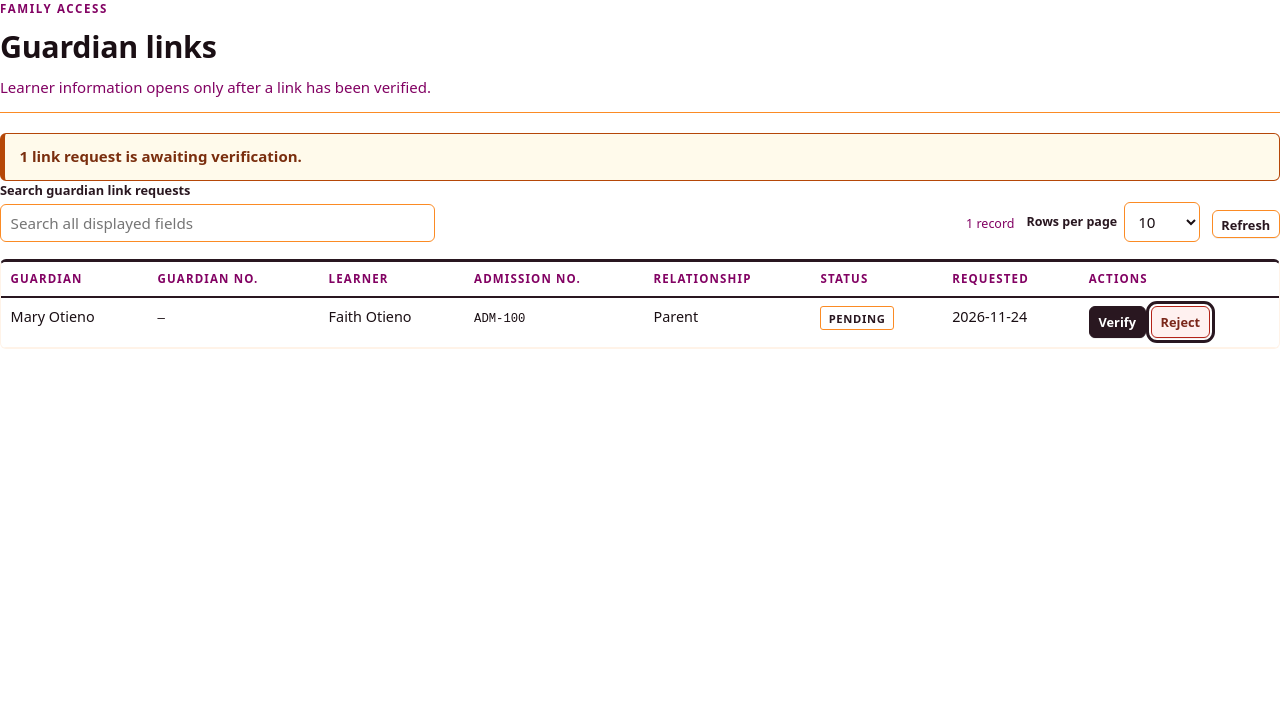
Test case: guardian links › requires a reason before rejecting a link
Press Enter
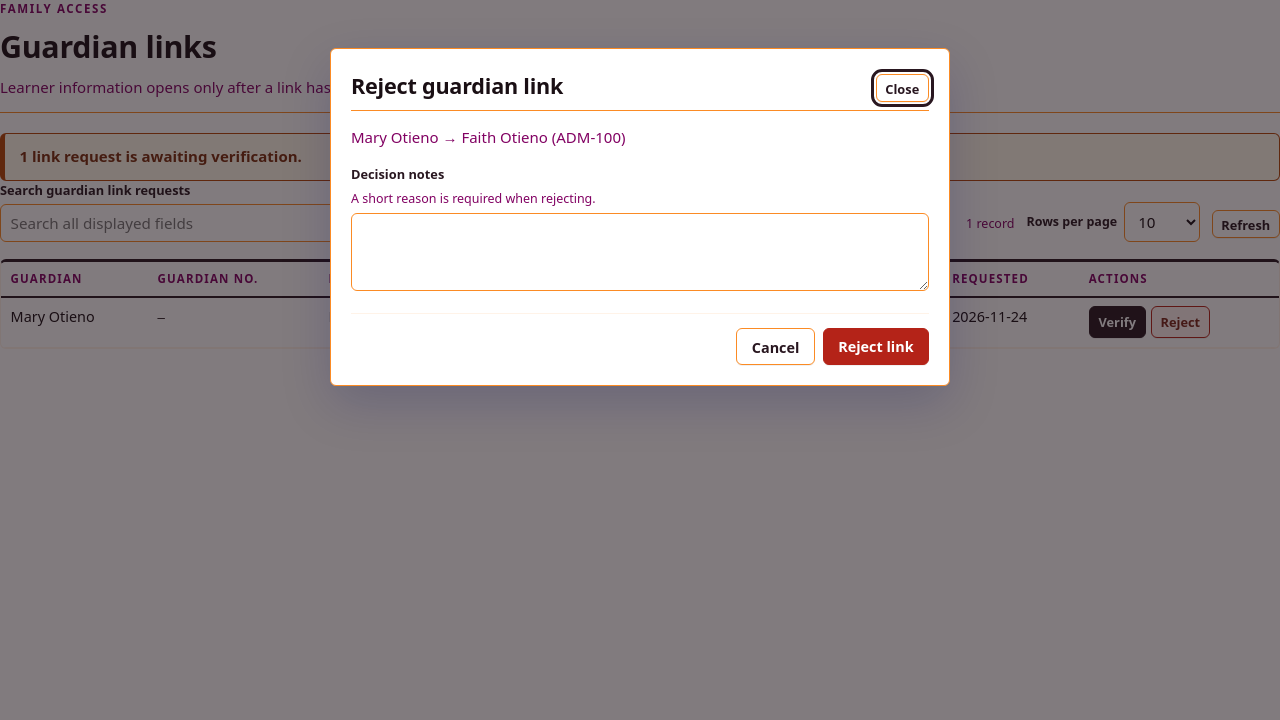
Click the button "Reject link" at (876, 346), box [823, 328, 929, 365]
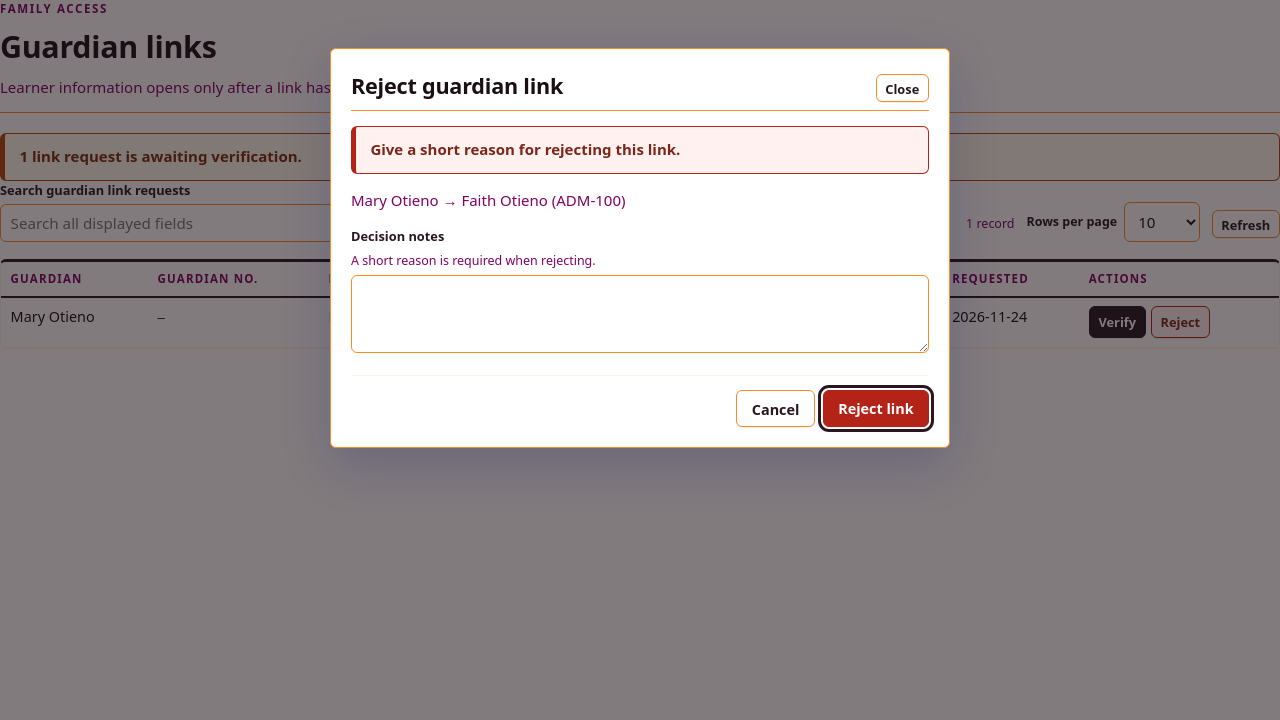
Expected: the text "Give a short reason for rejecting this link." is shown, [351, 126, 929, 174]
